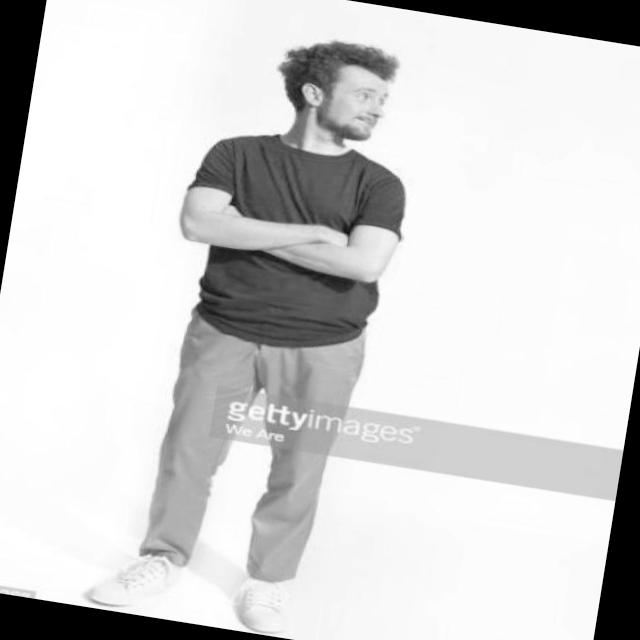person: (125, 5, 440, 640)
